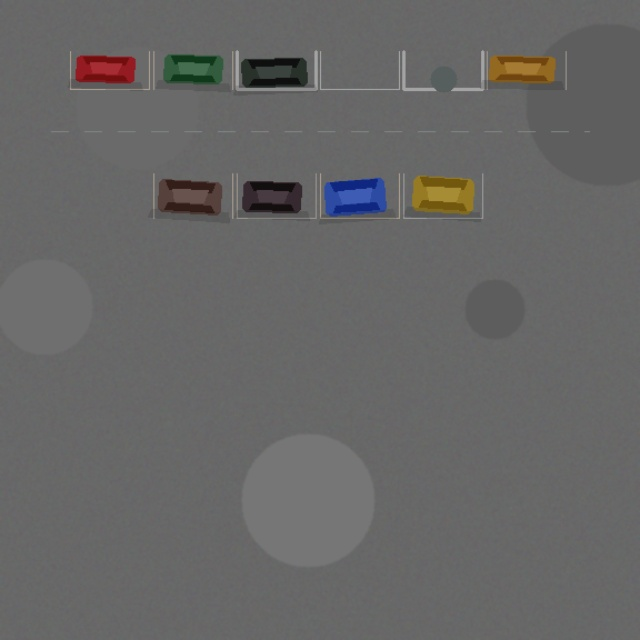space-empty: (320, 51, 399, 89), (403, 51, 482, 89)
space-occupied: (153, 173, 232, 218), (237, 173, 316, 218), (320, 173, 399, 218), (403, 173, 482, 218), (70, 51, 149, 89), (153, 51, 232, 89), (237, 51, 316, 89), (487, 51, 566, 89)
